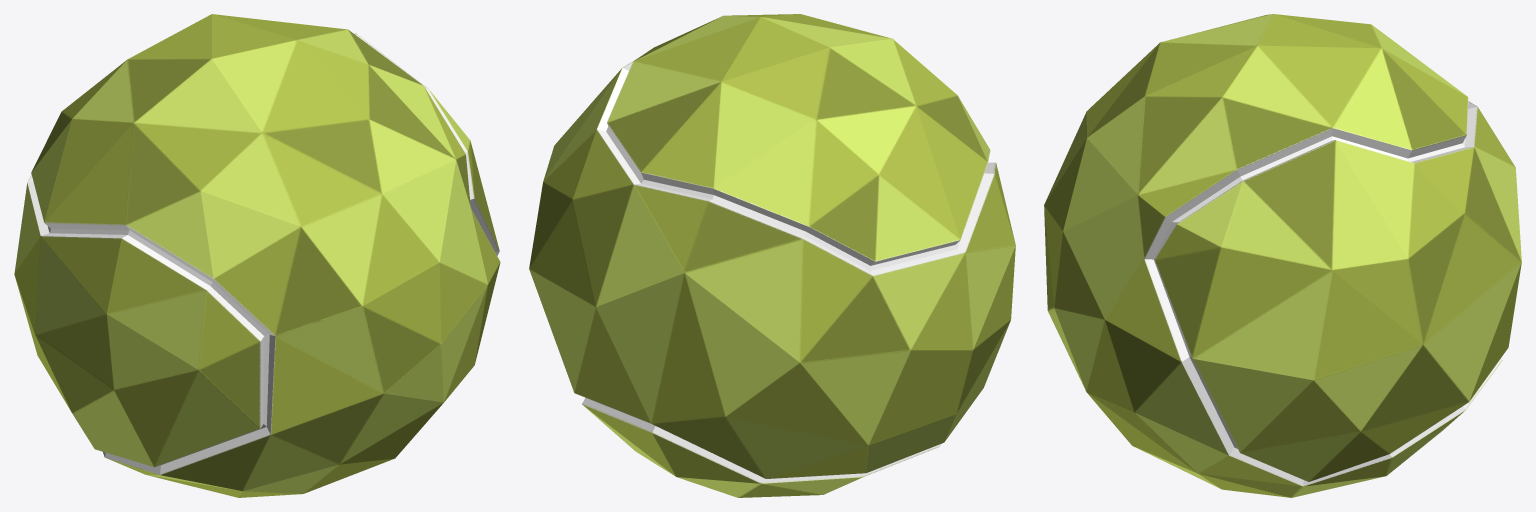
File: TennisBallModel.fbx
3 renders of one model, left to right at view 1: azimuth 30°, elevation 25°; view 2: azimuth 150°, elevation 25°; view 3: azimuth 270°, elevation 25°, orthographic.
Visible parts, largest first — view 1: node_id30; view 2: node_id30; view 3: node_id30.
Boxes of the visible parts, x1=… form: node_id30: x1=14, y1=14, x2=500, y2=497; node_id30: x1=529, y1=14, x2=1015, y2=497; node_id30: x1=1044, y1=14, x2=1521, y2=497.
Bounding box in the file's own units: 0.5089 × 0.512 × 0.4992.
Materials: 1 (1 with a texture image).
